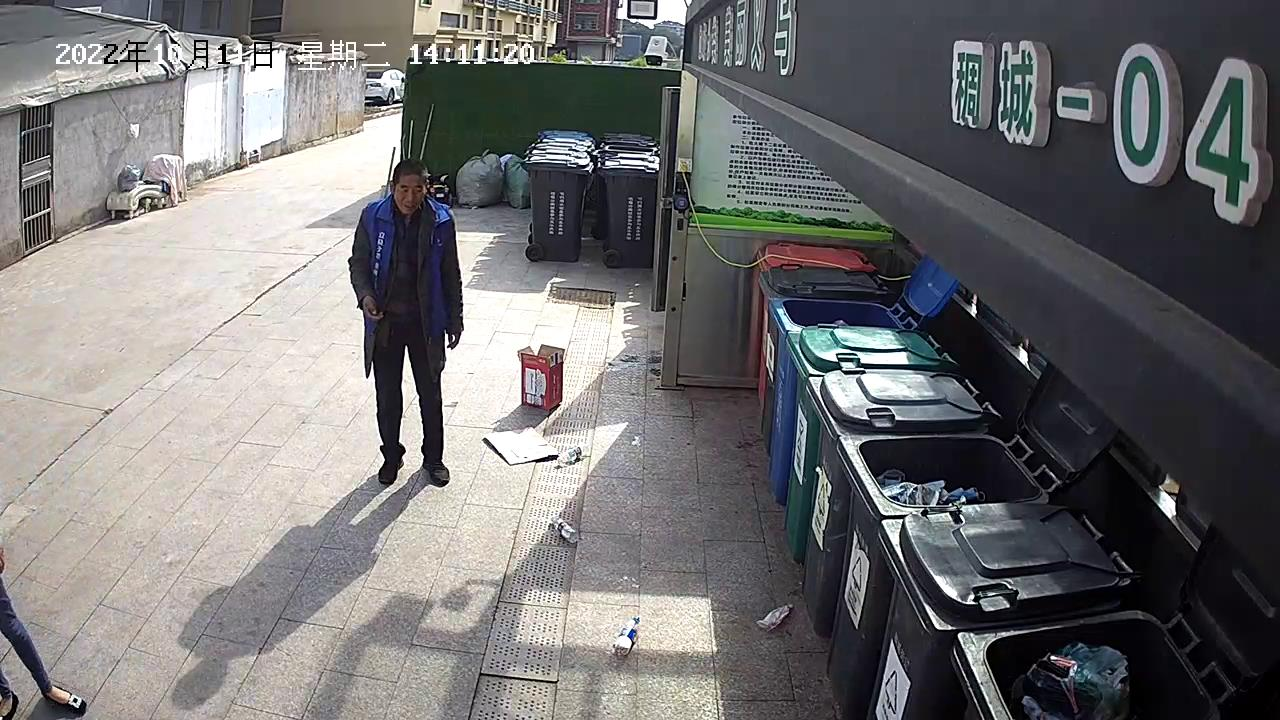suliaozhipin: (611, 615, 642, 660), (754, 602, 795, 632), (547, 510, 581, 546), (555, 441, 596, 466)
worker: (346, 156, 465, 491), (515, 340, 566, 413), (481, 424, 561, 468)
